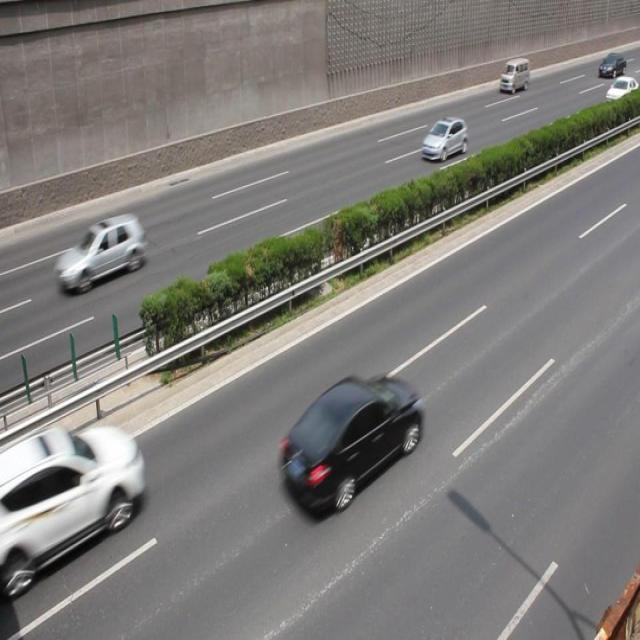car: (278, 372, 423, 516), (23, 425, 142, 576), (56, 216, 145, 291), (422, 116, 465, 160)
truck: (498, 57, 528, 92)
